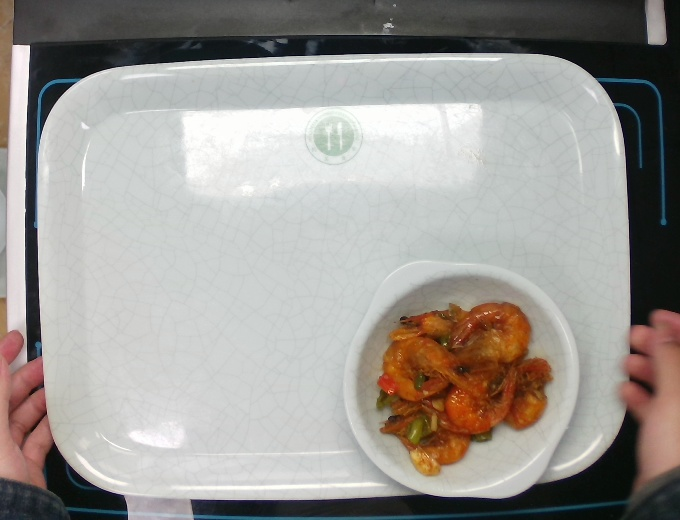JYsf-Shuang_Er_Wan: (341, 252, 583, 502)
